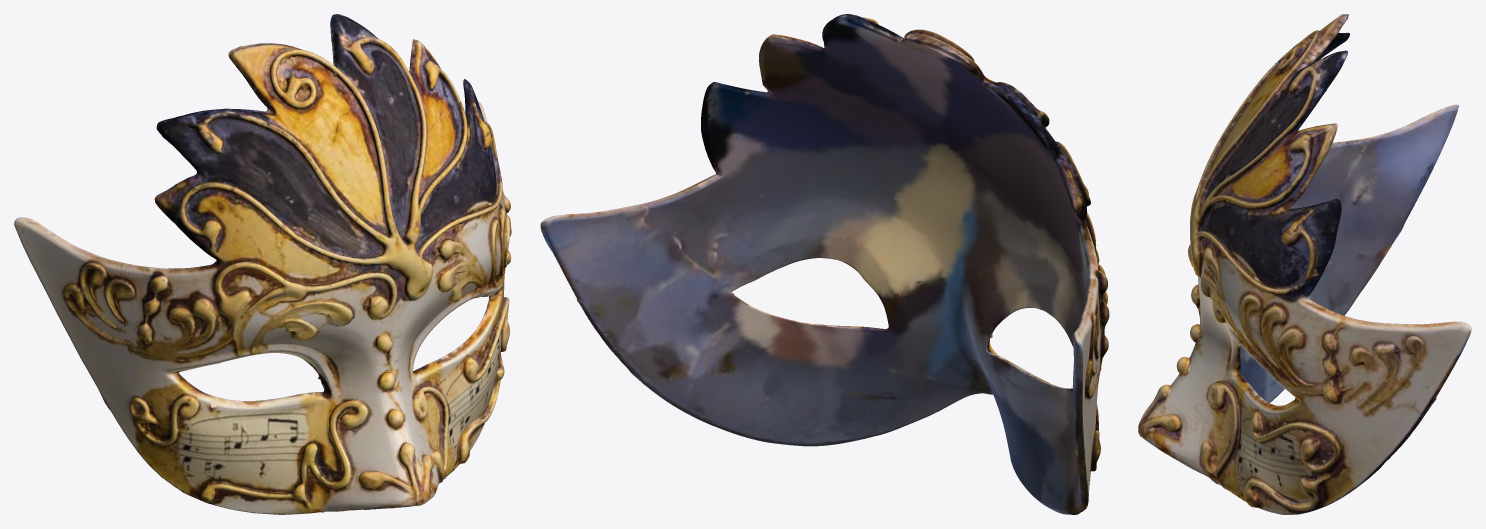
File: veneciaMask-4662651b.glb
3 renders of one model, left to right at view 1: azimuth 30°, elevation 25°; view 2: azimuth 150°, elevation 25°; view 3: azimuth 270°, elevation 25°, orthographic. The views are drawn at different scales.
Visible parts, largest first — view 1: Object_2; view 2: Object_2; view 3: Object_2.
Boxes of the visible parts, x1,y1,x2,y2 form: Object_2: [14, 14, 511, 514]; Object_2: [540, 14, 1109, 514]; Object_2: [1138, 14, 1471, 514].
Size of the model in its own units: 1.11 by 0.9678 by 0.6979.
1 material, 1 textured.
